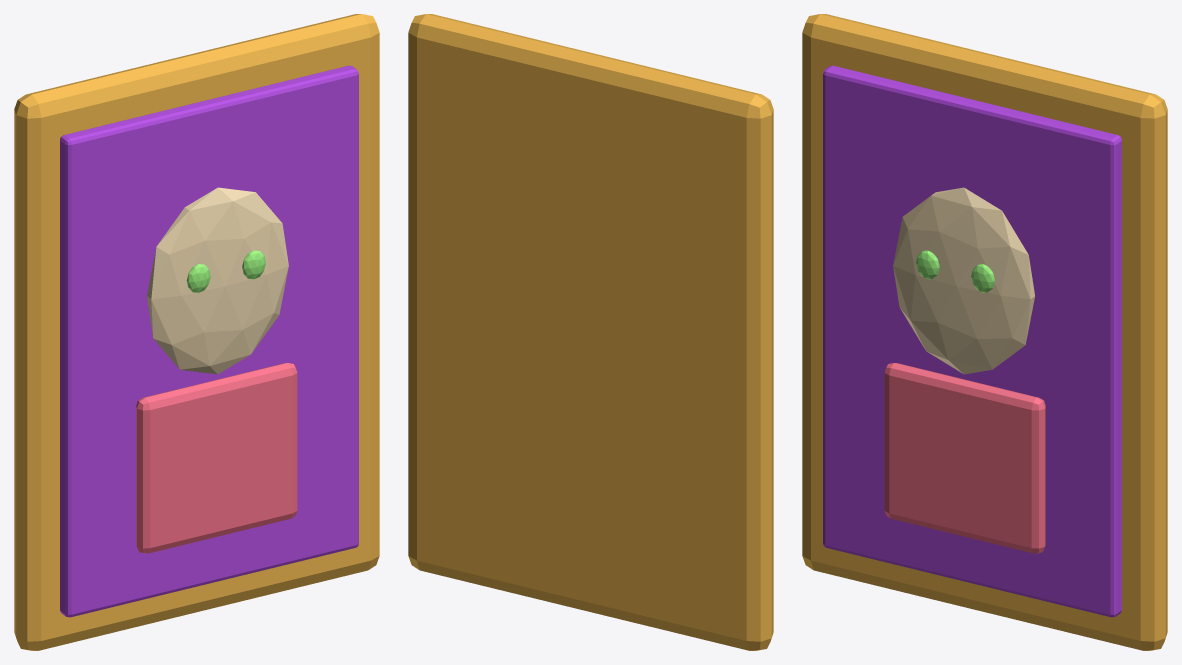
Rendered from painting.glb.
3 views of the same model, side by side, from view 1: azimuth 30°, elevation 25°; view 2: azimuth 150°, elevation 25°; view 3: azimuth 330°, elevation 25° (orthographic).
Visible parts, largest first — view 1: HauntedPaintingMesh; view 2: HauntedPaintingMesh; view 3: HauntedPaintingMesh.
Part boxes in pixels (box(x1,y1,x2,y2)): HauntedPaintingMesh: box(14, 14, 379, 650); HauntedPaintingMesh: box(408, 14, 773, 650); HauntedPaintingMesh: box(802, 14, 1167, 650).
Size of the model in its own units: 1.7 by 2.5 by 0.34.
